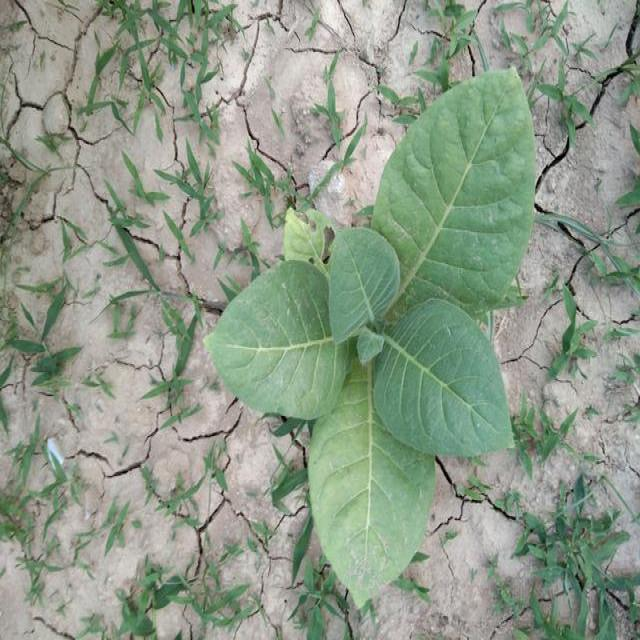crop: (209, 76, 532, 598)
